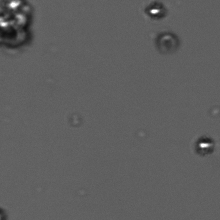Dead Cell: (1, 24, 33, 49), (156, 30, 180, 54)
Living Cell: (194, 134, 216, 156), (144, 2, 168, 20), (5, 1, 26, 12)
